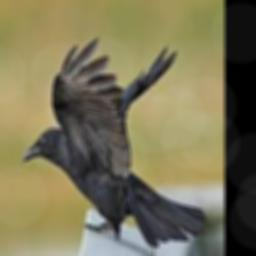Crow: (22, 37, 204, 247)
